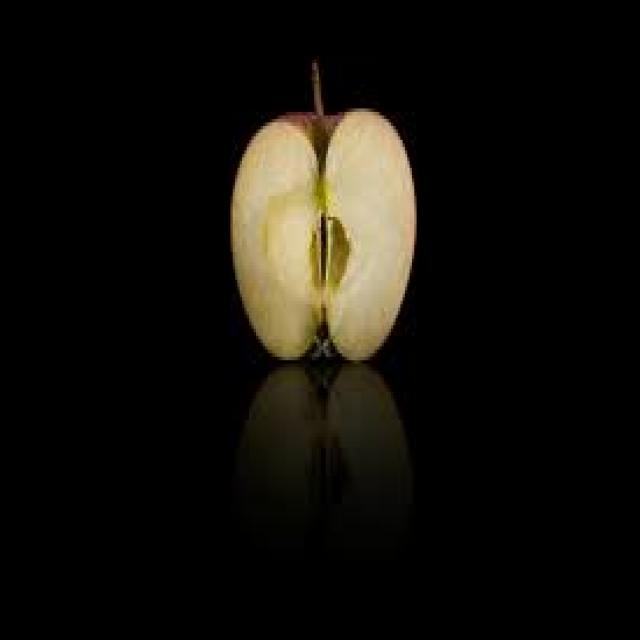Apple: (226, 62, 418, 364)
